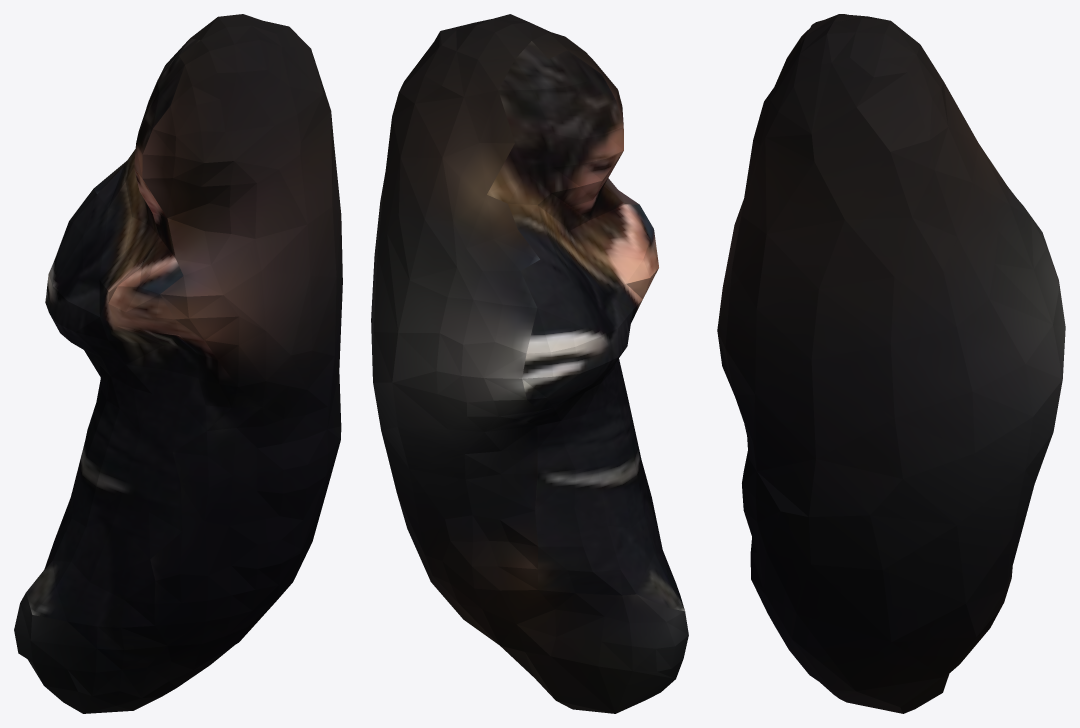
3 renders of one model, left to right at view 1: azimuth 30°, elevation 25°; view 2: azimuth 150°, elevation 25°; view 3: azimuth 270°, elevation 25°, orthographic. The views are drawn at different scales.
Size of the model in its own units: 0.5343 by 1.14 by 0.4877.
Materials: 1 (1 with a texture image).
